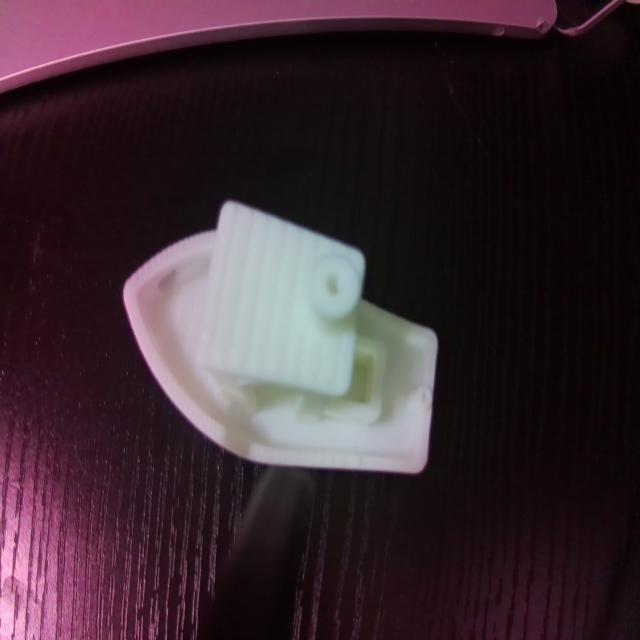ship: (125, 199, 438, 476)
